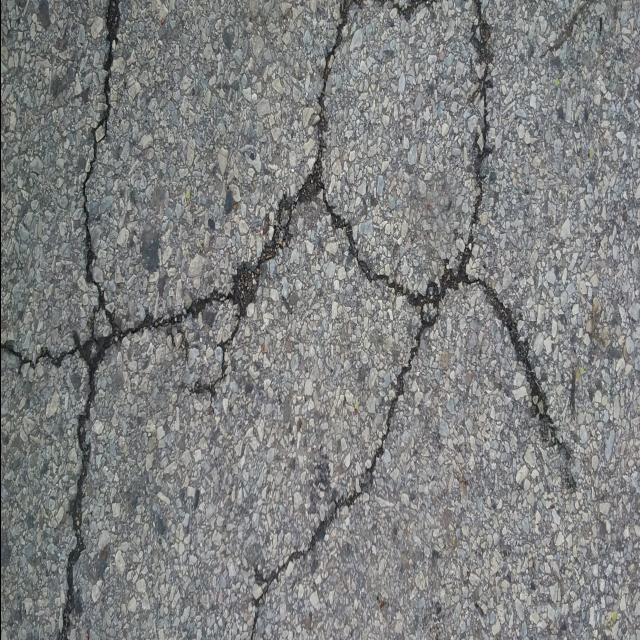Crack: (0, 0, 575, 640)
